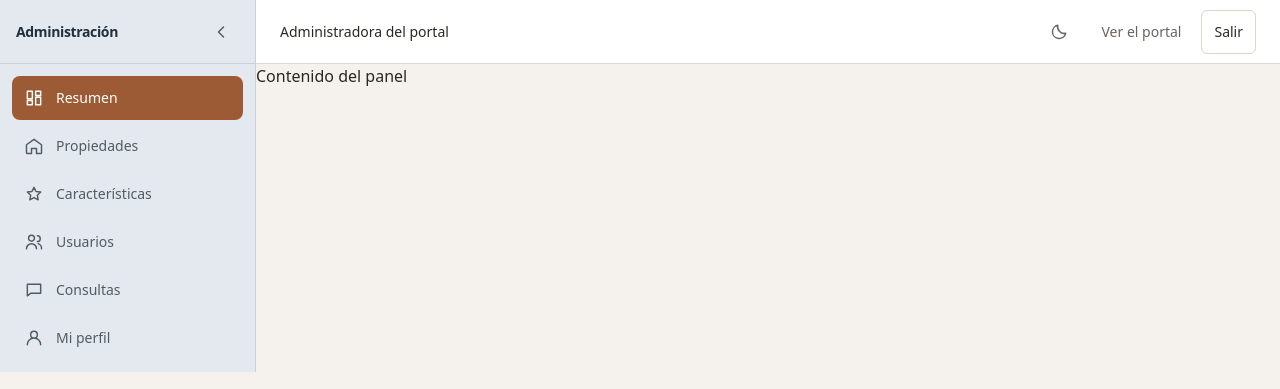
it: AdminShell › contrae y expande la barra
This screenshot has width=1280, height=389.
Click the button named "Contraer el menú" next to "Administración" at (221, 32), box [203, 14, 239, 50]
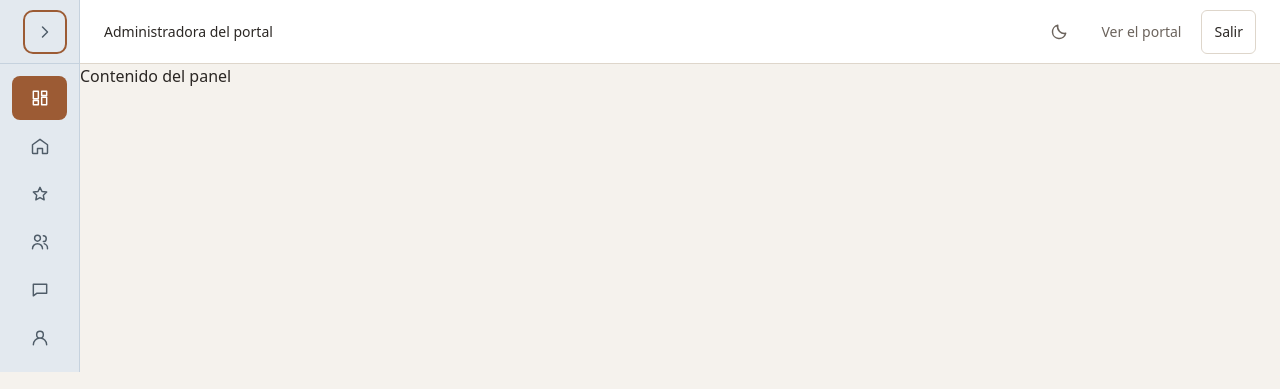
expect the 1st button named "Expandir el menú" is collapsed: met, box [27, 14, 63, 50]
